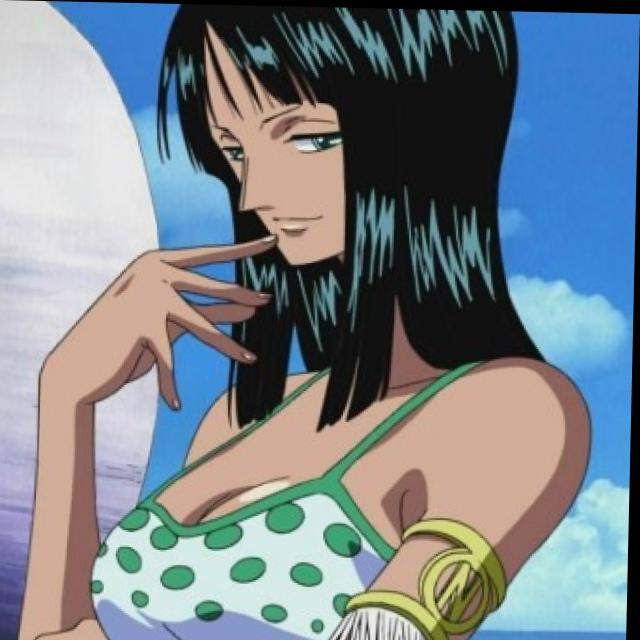NicoRobin: (120, 2, 552, 343)
